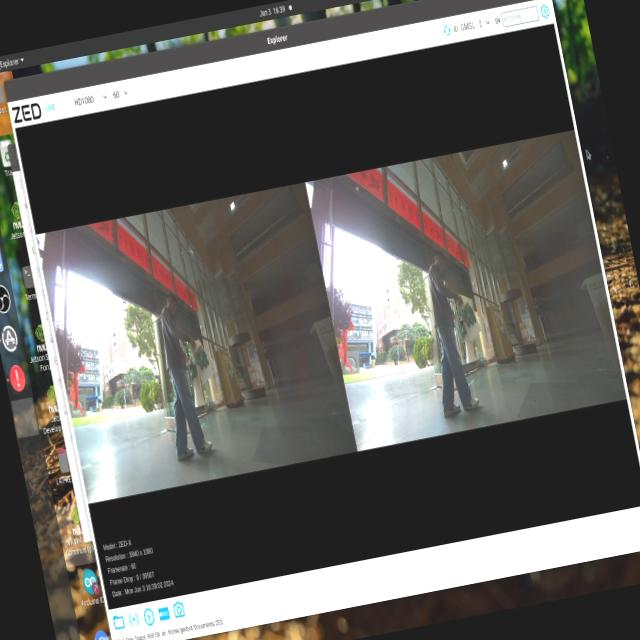green: (196, 337, 211, 373), (462, 302, 476, 338)
